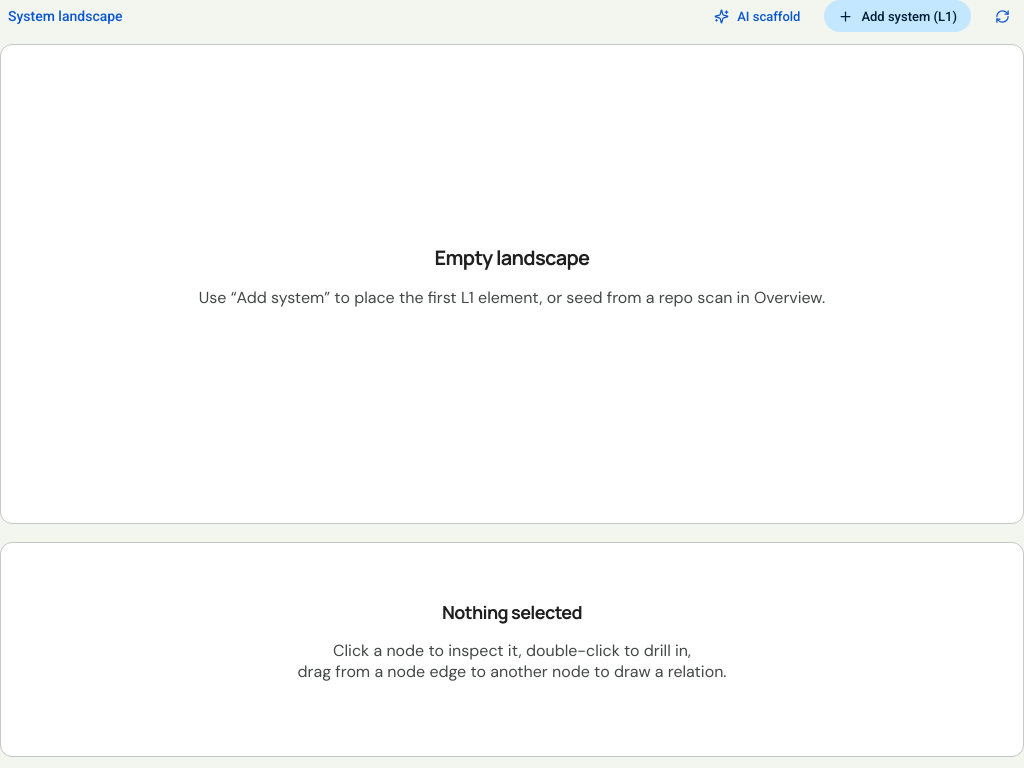
Test: C4Canvas navigation › shows scaffold generation failures inside the open dialog
Click the button "AI scaffold".
click(757, 16)  # box top-left (700, 0), bottom-right (814, 32)
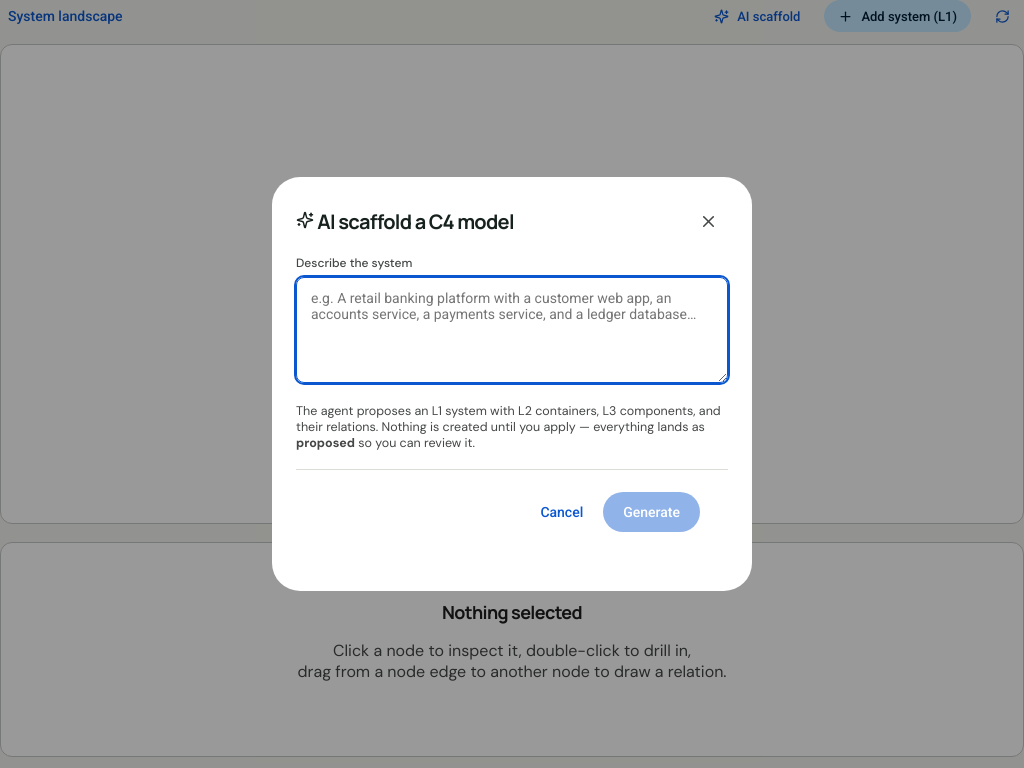
Replace the text in the text box labelled "Describe the system" with "A corporate banking platform" at (512,330), box top-left (296, 277), bottom-right (728, 383)
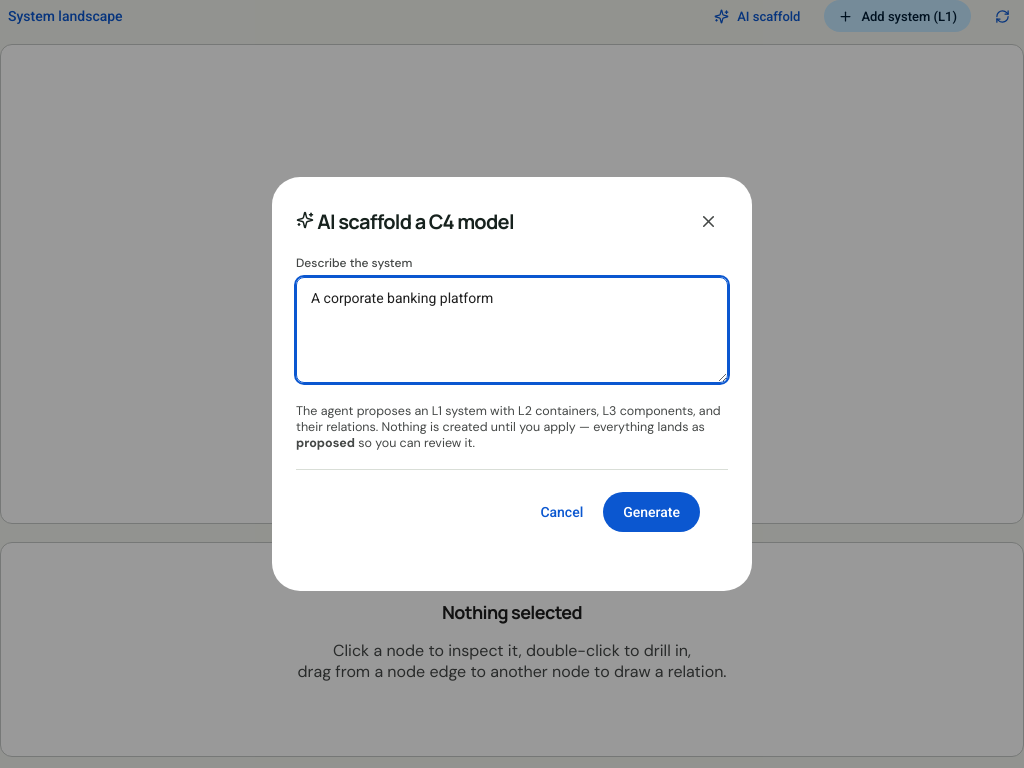
Click the button "Generate".
click(652, 512)  # box top-left (603, 492), bottom-right (700, 532)
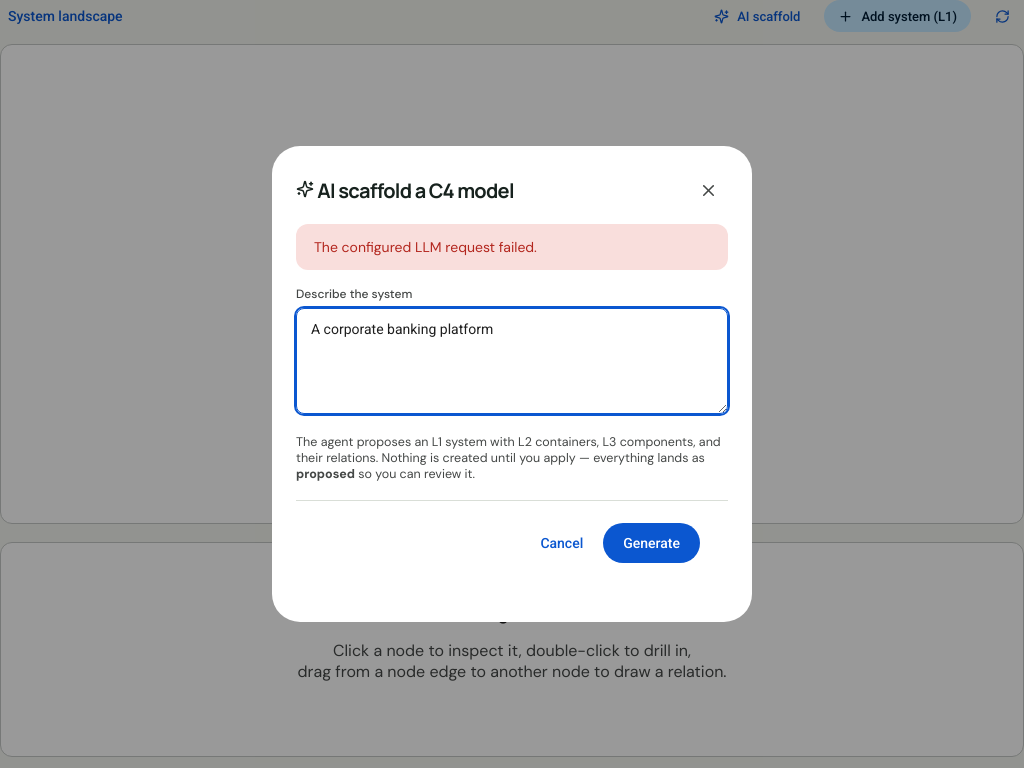
Expected: the dialog "AI scaffold" is shown, top-left (272, 146), bottom-right (752, 622)
Expected: the message reads "The configured LLM request failed.", top-left (314, 238), bottom-right (537, 256)
